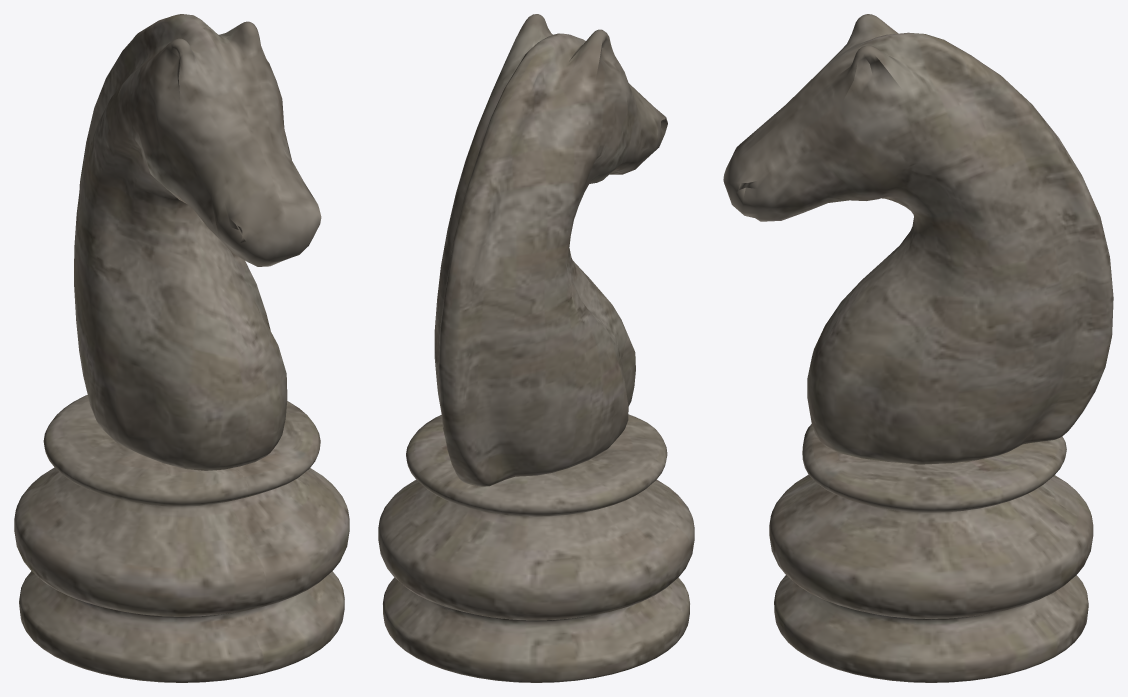
Rendered from ChessKnight.glb.
3 views of the same model, side by side, from view 1: azimuth 30°, elevation 25°; view 2: azimuth 150°, elevation 25°; view 3: azimuth 270°, elevation 25° (orthographic). The views are drawn at different scales.
Parts seen in each view (by area): view 1: Knight_W1; view 2: Knight_W1; view 3: Knight_W1.
Part boxes in pixels (<box>): Knight_W1: <box>14,14,349,682</box>; Knight_W1: <box>378,14,694,682</box>; Knight_W1: <box>723,14,1113,682</box>.
Bounding box in the file's own units: 0.0499 × 0.1001 × 0.0602.
Materials: 1 (1 with a texture image).
